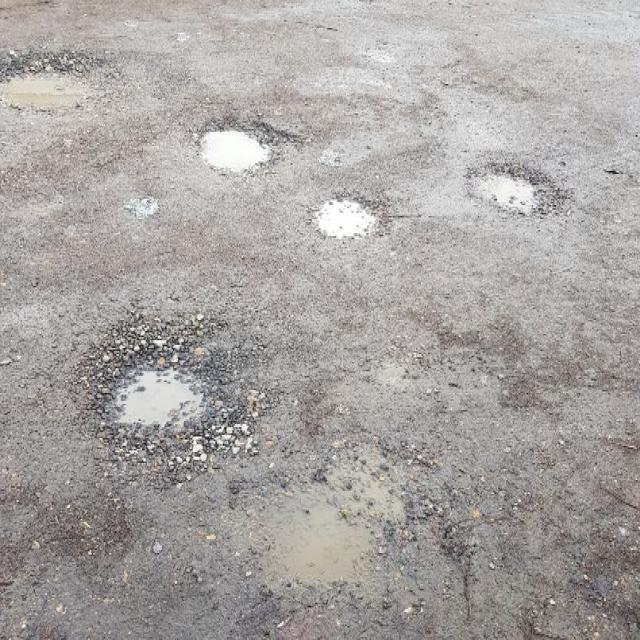pothole: (76, 302, 242, 456), (0, 36, 106, 115), (464, 149, 566, 225), (193, 106, 278, 172), (307, 180, 385, 246)
